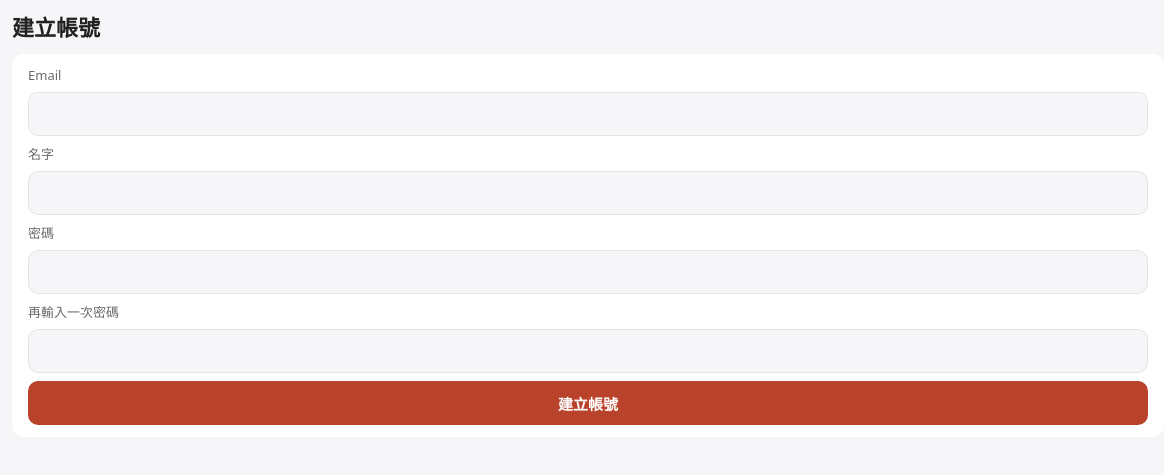
Test: 建立帳號（/join） › 兩次密碼不一樣：不送出
The image size is (1164, 475).
Type "friend@example.com" into the field labelled "Email" at (588, 114), box [28,92,1148,136]
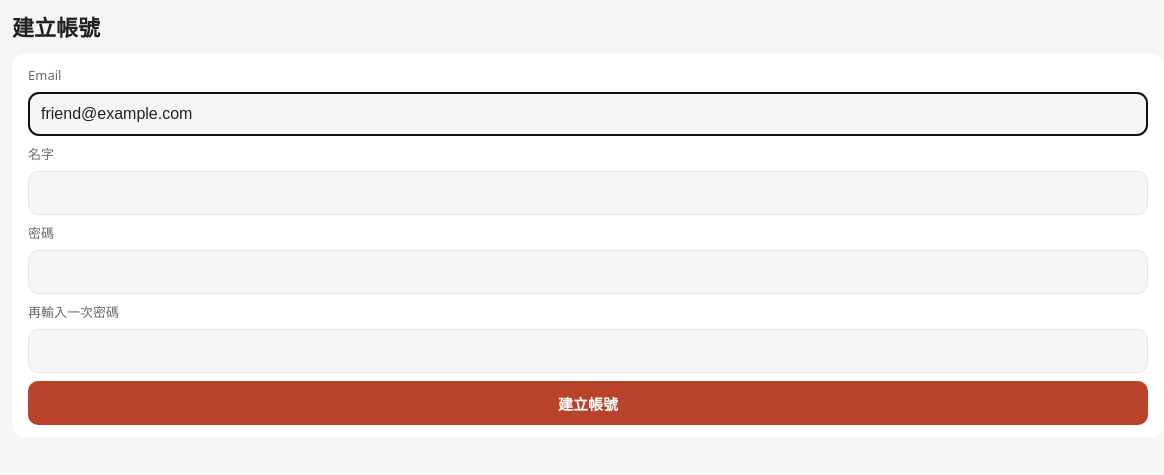
Type "小明" into the field labelled "名字" at (588, 193), box [28,171,1148,215]
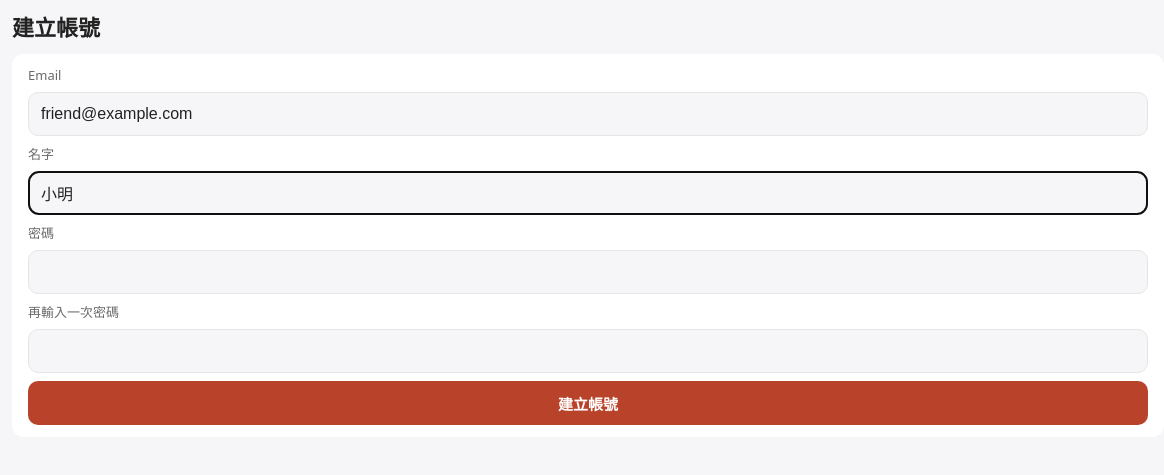
Type "a-good-password" into the password field labelled "密碼" at (588, 272), box [28,250,1148,294]
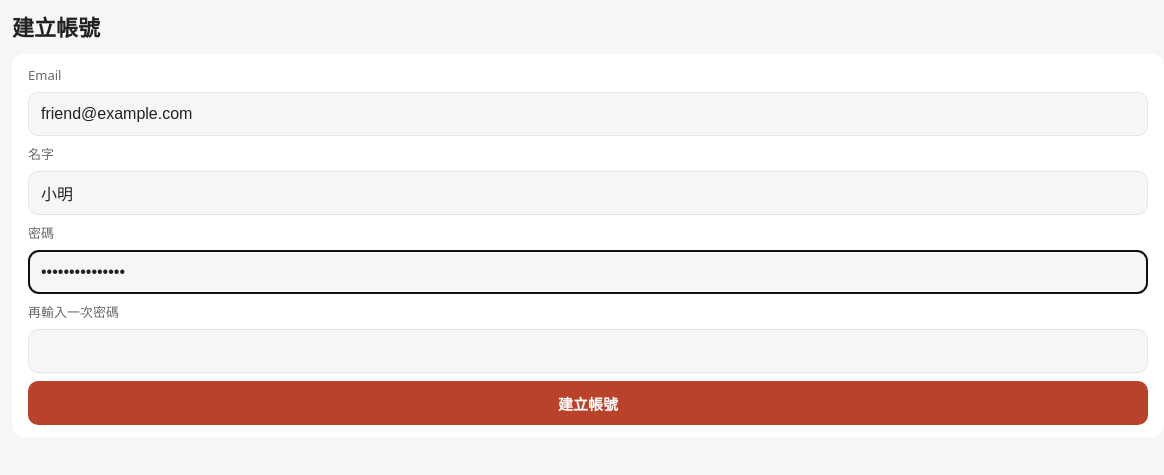
Type "another-password" into the password field labelled "再輸入一次密碼" at (588, 351), box [28,329,1148,373]
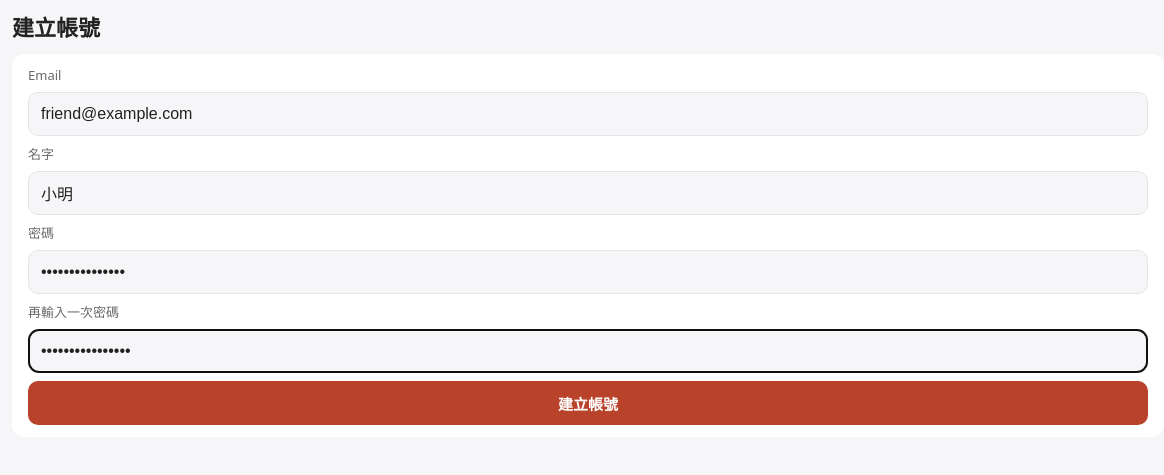
Click the button "建立帳號" at (588, 403), box [28,381,1148,425]
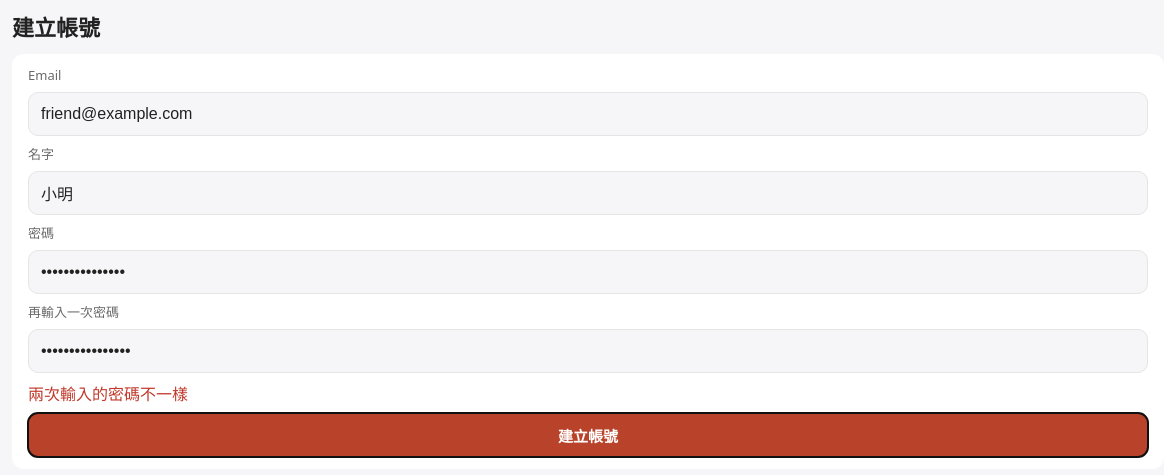
expect the text "兩次輸入的密碼不一樣" is shown: met, box [28,383,188,405]
